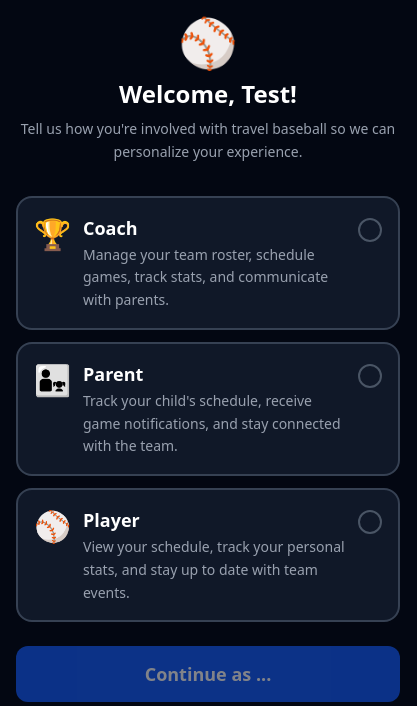
OnboardingPage › after COACH role assigned shows create team next step
The image size is (417, 706).
Click the button with aria-label "select coach role".
click(208, 263)  # box [16,196,400,330]
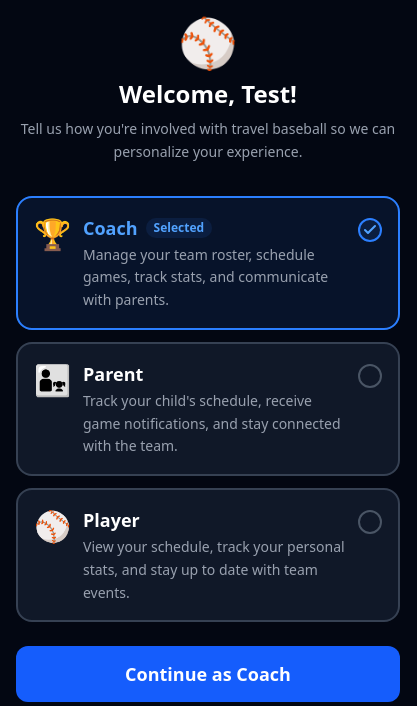
Click the button "Continue as Coach".
click(208, 674)  # box [16,646,400,702]
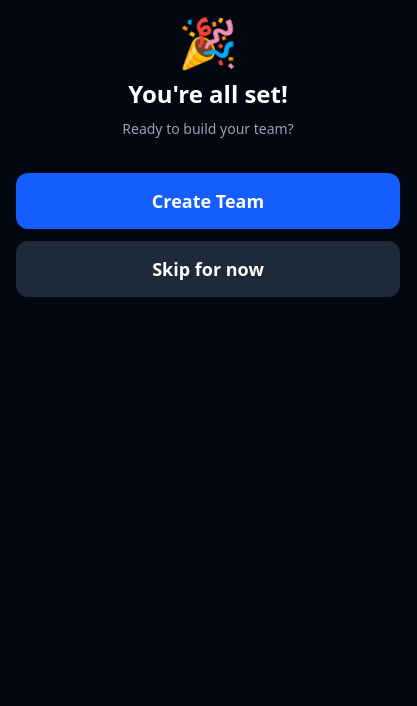
Result: the button "Create Team" is shown at [16,173,400,229]
